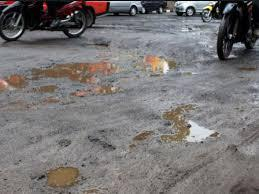Pothole: (0, 17, 229, 194), (232, 54, 258, 82)
